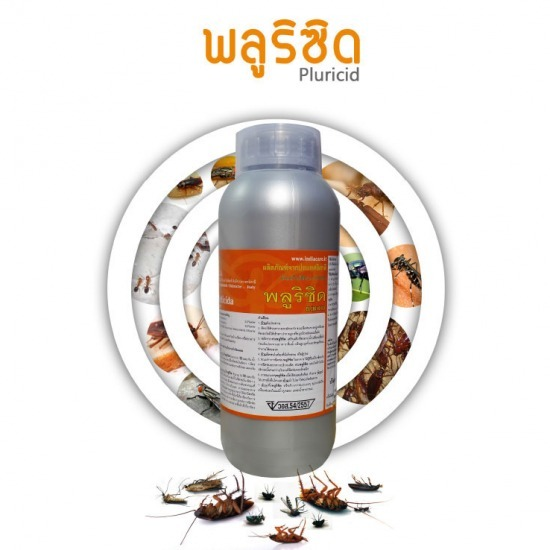Insecticide: (213, 116, 343, 490)
